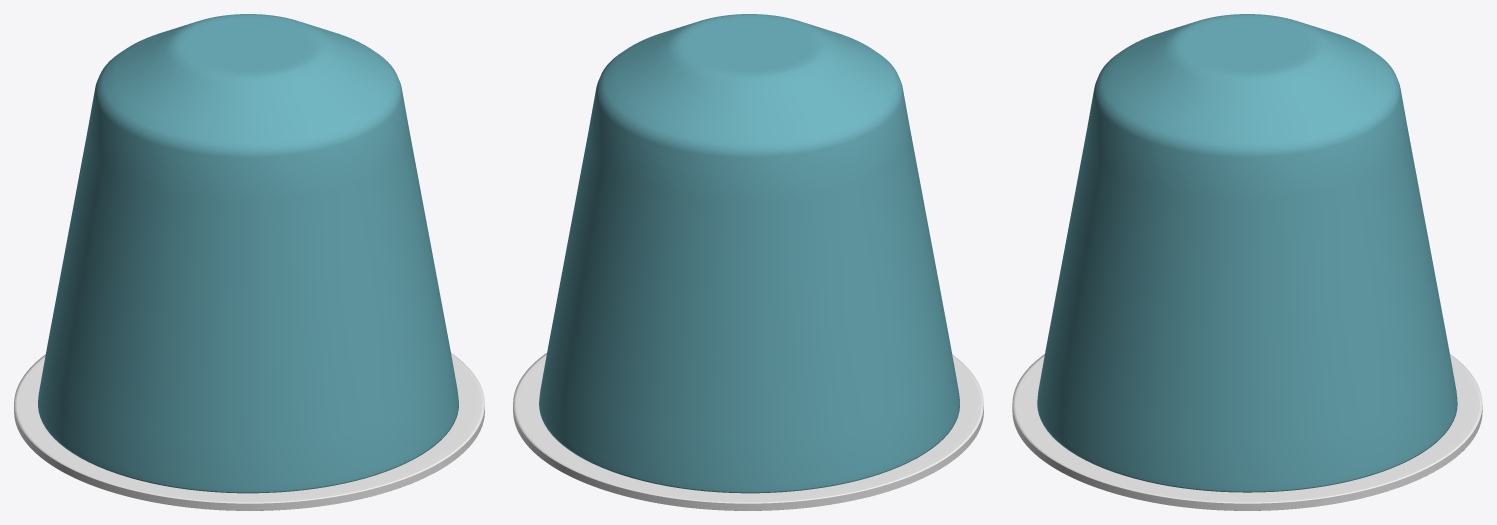
The picture shows the model from 3 angles, left to right: view 1: azimuth 30°, elevation 25°; view 2: azimuth 150°, elevation 25°; view 3: azimuth 270°, elevation 25°; orthographic projection.
Parts seen in each view (by area): view 1: 네스오리지널통001, 네스오리지널뚜껑001; view 2: 네스오리지널통001, 네스오리지널뚜껑001; view 3: 네스오리지널통001, 네스오리지널뚜껑001.
Boxes of the visible parts, bbox=[...] form: 네스오리지널통001: bbox=[38, 14, 458, 493]; 네스오리지널뚜껑001: bbox=[14, 353, 484, 510]; 네스오리지널통001: bbox=[539, 14, 959, 493]; 네스오리지널뚜껑001: bbox=[513, 353, 983, 510]; 네스오리지널통001: bbox=[1037, 14, 1457, 492]; 네스오리지널뚜껑001: bbox=[1012, 354, 1482, 510].
Bounding box in the file's own units: 3.97 × 3.41 × 3.97.
